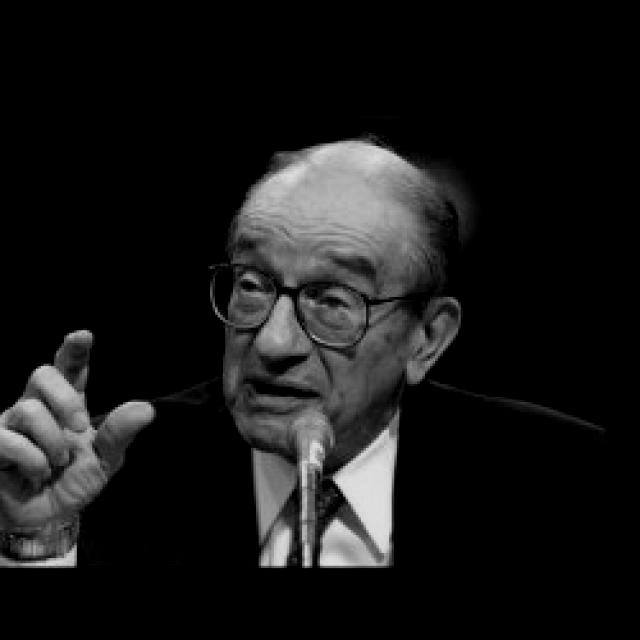real: (221, 166, 410, 452), (230, 265, 379, 331)
